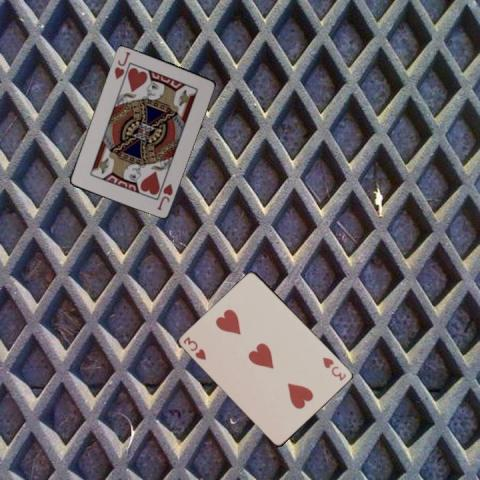3h: (320, 354, 348, 382), (181, 334, 208, 362)
Jh: (111, 48, 132, 80), (154, 181, 174, 211)
